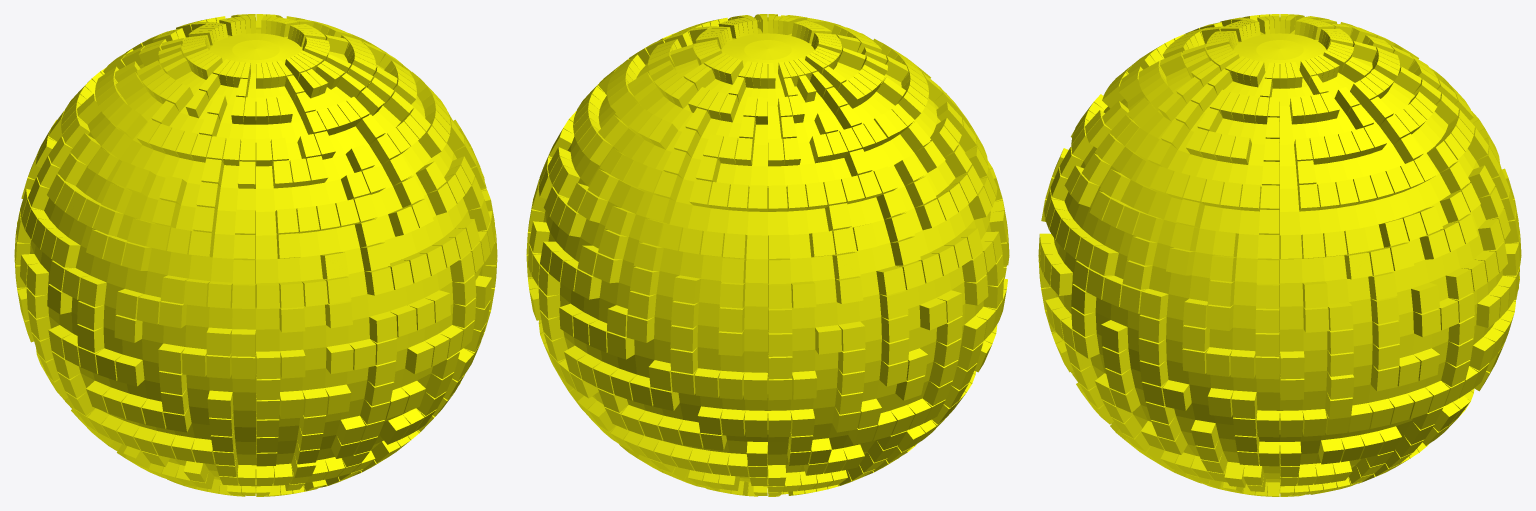
File: Spherical_Maze.obj
The picture shows the model from 3 angles, left to right: view 1: azimuth 30°, elevation 25°; view 2: azimuth 150°, elevation 25°; view 3: azimuth 270°, elevation 25°; orthographic projection.
Parts seen in each view (by area): view 1: Spherical_Maze_Main-Color_E01; view 2: Spherical_Maze_Main-Color_E01; view 3: Spherical_Maze_Main-Color_E01.
Boxes of the visible parts, left/top/right/bottom form: Spherical_Maze_Main-Color_E01: left=14, top=14, right=497, bottom=496; Spherical_Maze_Main-Color_E01: left=526, top=14, right=1009, bottom=496; Spherical_Maze_Main-Color_E01: left=1038, top=14, right=1521, bottom=496.
Bounding box in the file's own units: 106 × 104 × 106.
